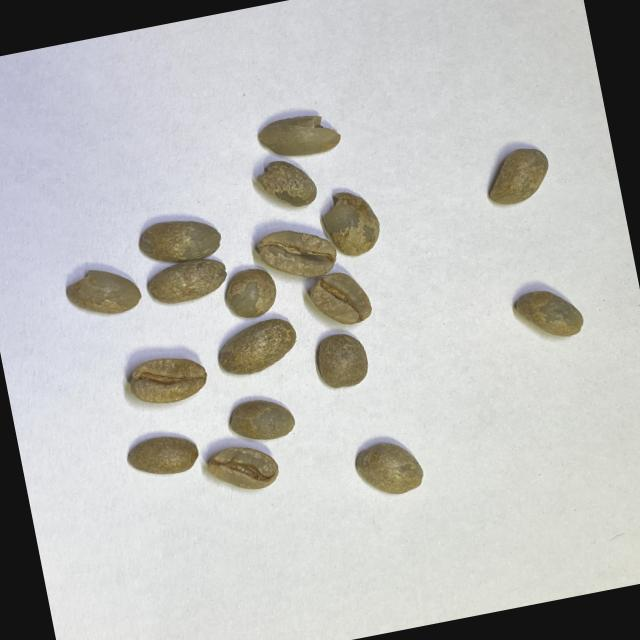bad: (61, 260, 146, 323), (254, 108, 345, 166), (318, 186, 384, 261), (256, 154, 320, 213)
good: (214, 314, 302, 380), (254, 221, 341, 286), (136, 212, 226, 270), (351, 435, 427, 502), (481, 143, 555, 209), (128, 352, 212, 410), (511, 282, 586, 346), (145, 254, 231, 309), (204, 441, 282, 498), (307, 268, 375, 332), (124, 431, 202, 484), (227, 393, 298, 448), (313, 330, 373, 392), (221, 264, 279, 323)
